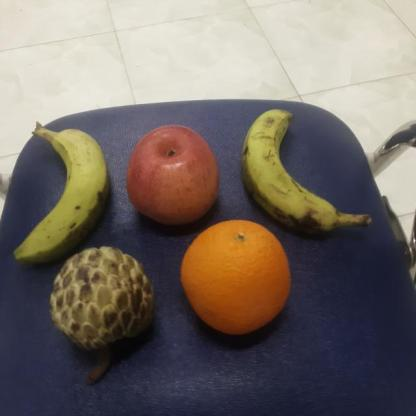annona: (47, 247, 160, 346)
apple: (124, 121, 223, 227)
banana: (10, 124, 114, 267), (236, 106, 344, 235)
orange: (175, 218, 292, 335)
